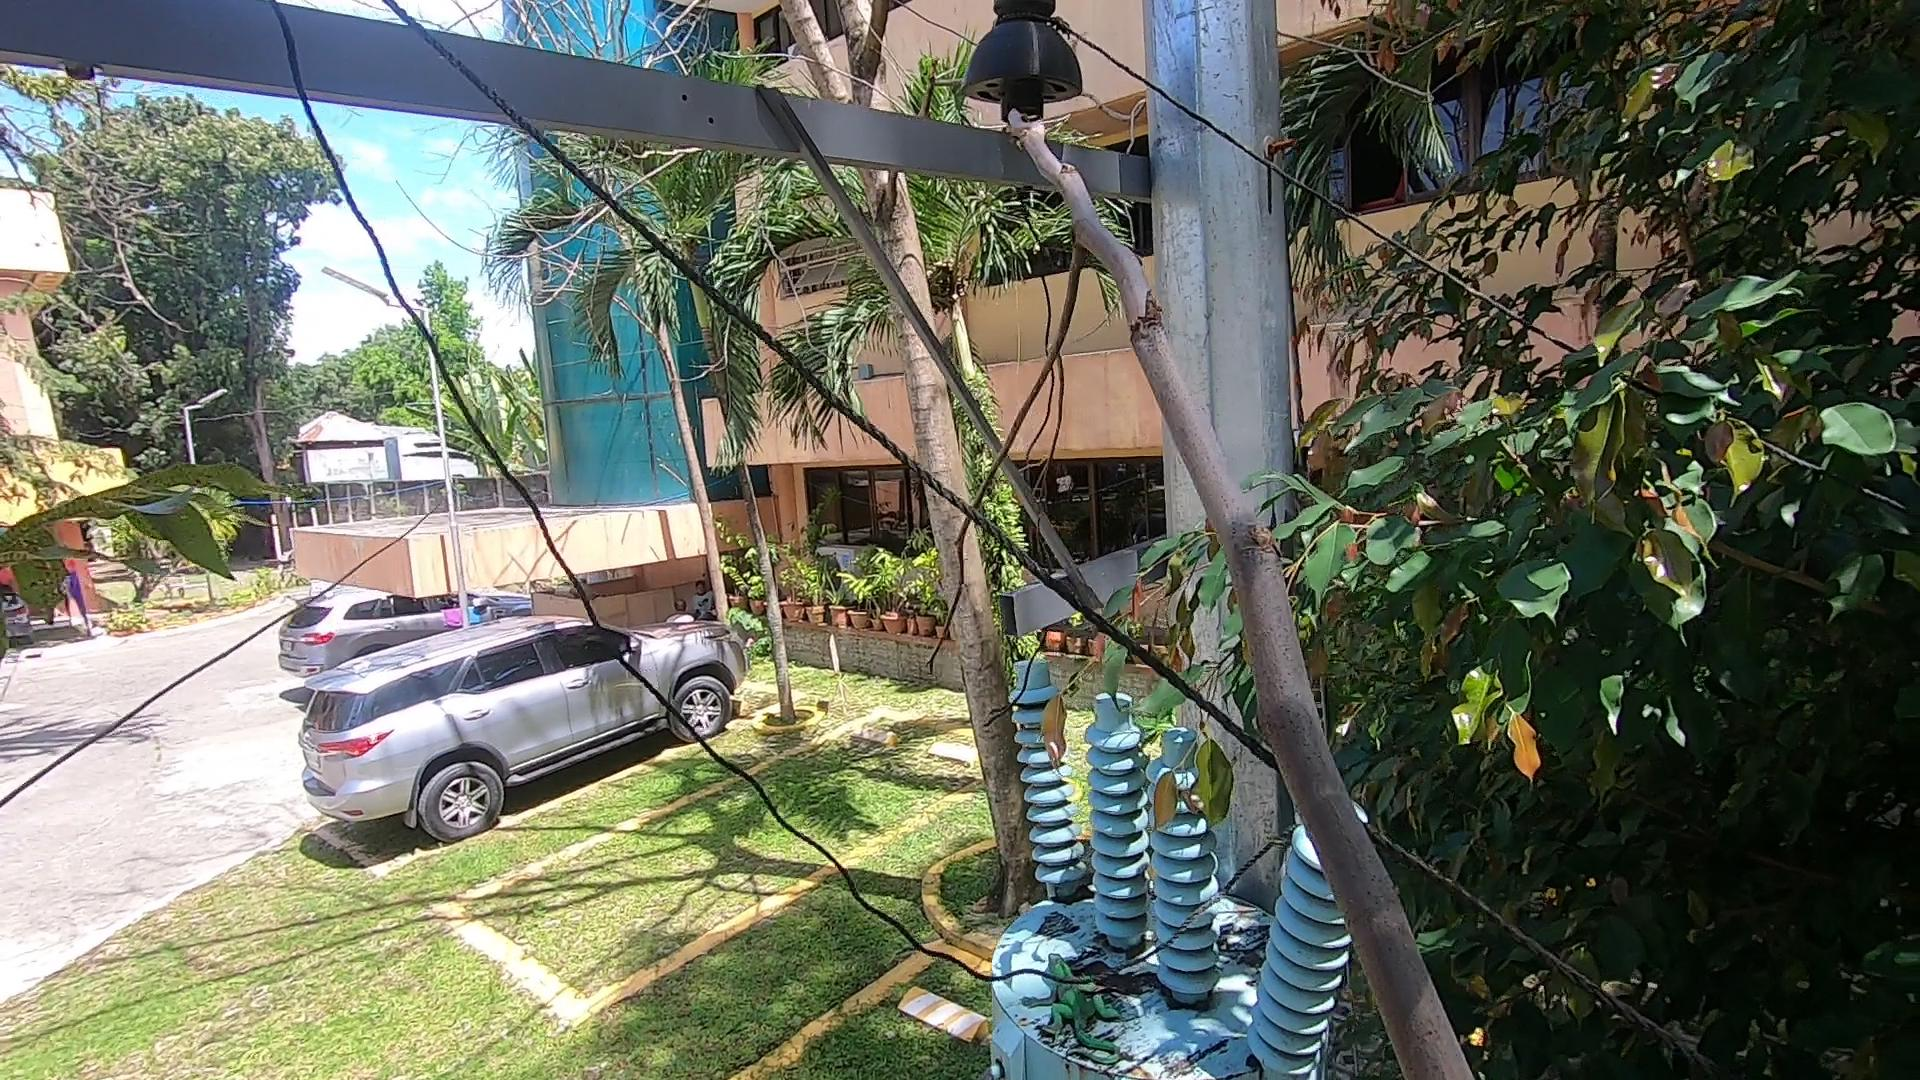branch with leaves: (1054, 556, 1316, 845)
leaf: (1060, 942, 1168, 1004), (1204, 913, 1280, 971), (1039, 884, 1098, 916)
tree branch: (972, 95, 1490, 1080)
